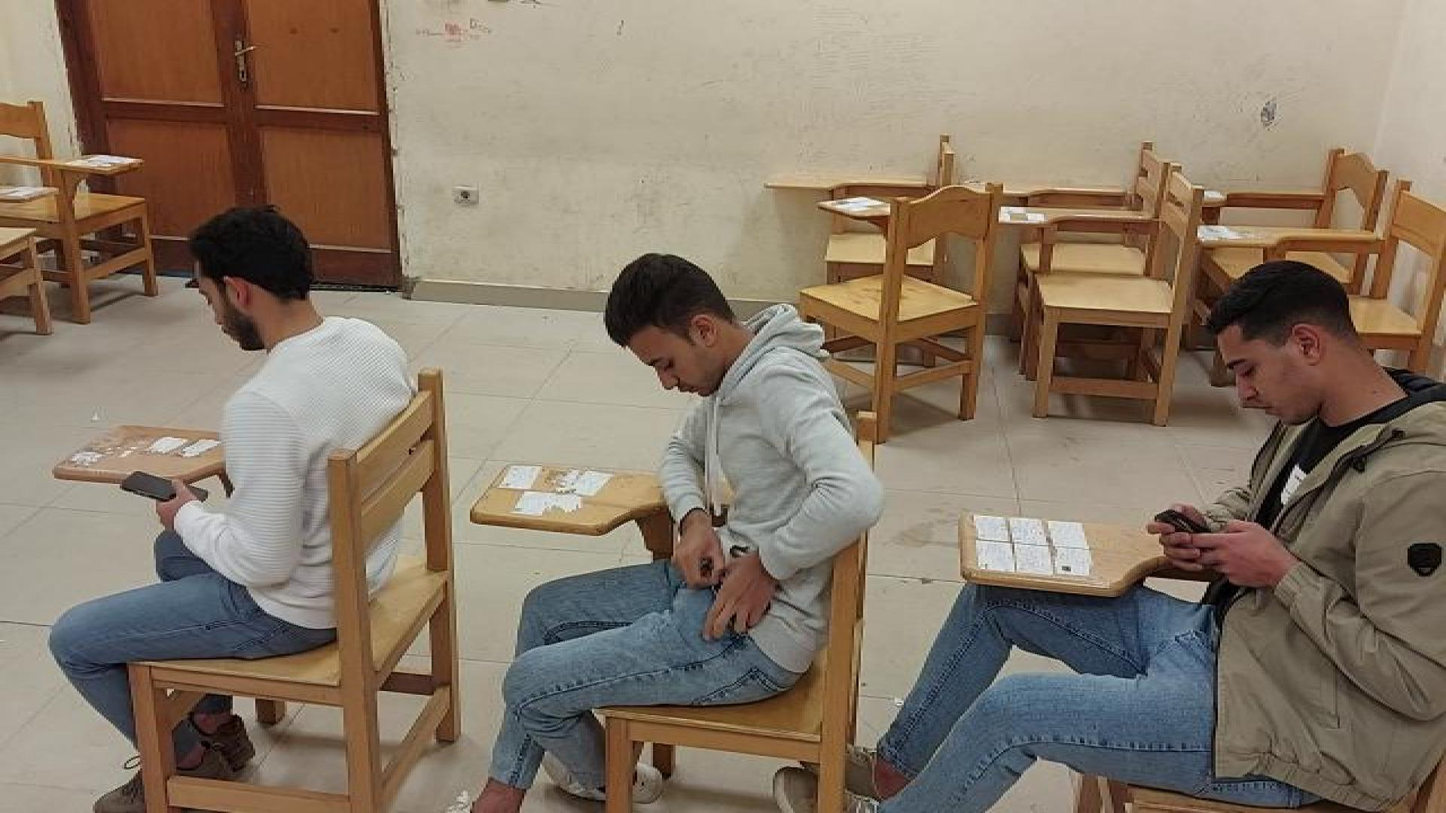phone: (117, 470, 210, 508), (1153, 510, 1201, 536)
